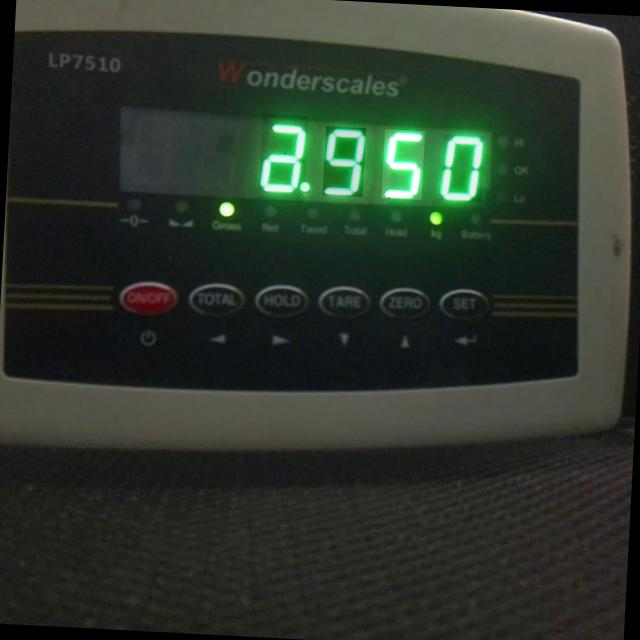.: (298, 182, 312, 195)
0: (440, 134, 484, 202)
2: (258, 114, 308, 203)
5: (381, 129, 425, 200)
9: (322, 126, 367, 197)
